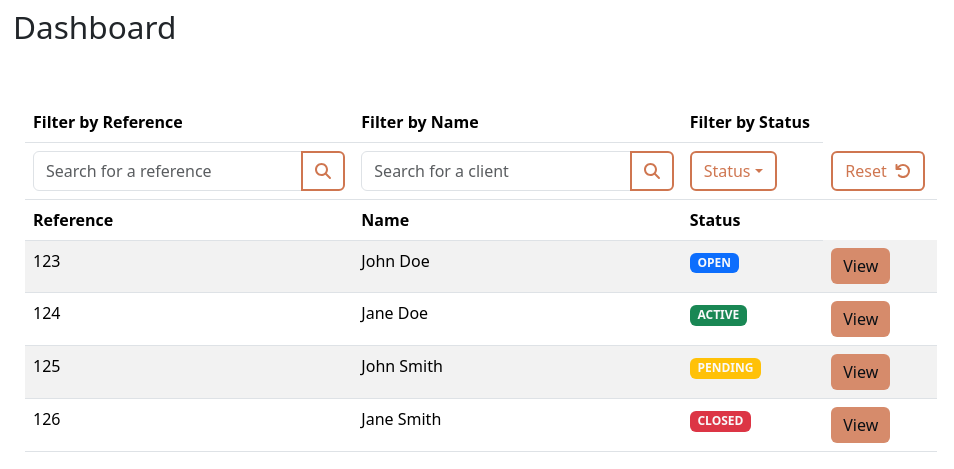
Test: Dashboard › when the cases have loaded › renders the cases table with the correct amount of rows after filtering by name
Type "Jane Doe" into the field with placeholder "Search for a client" at (496, 171), box x1=361 y1=151 x2=631 y2=191
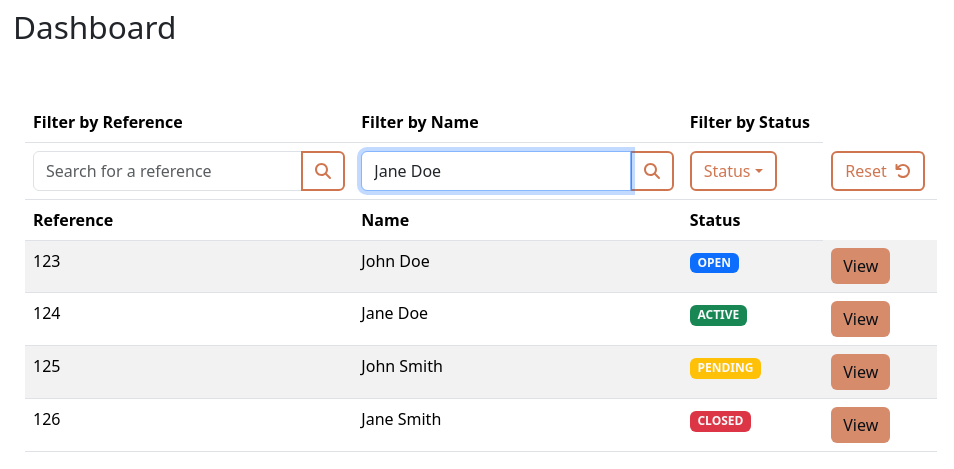
Click the 2nd button at (652, 171), box x1=630 y1=151 x2=674 y2=191
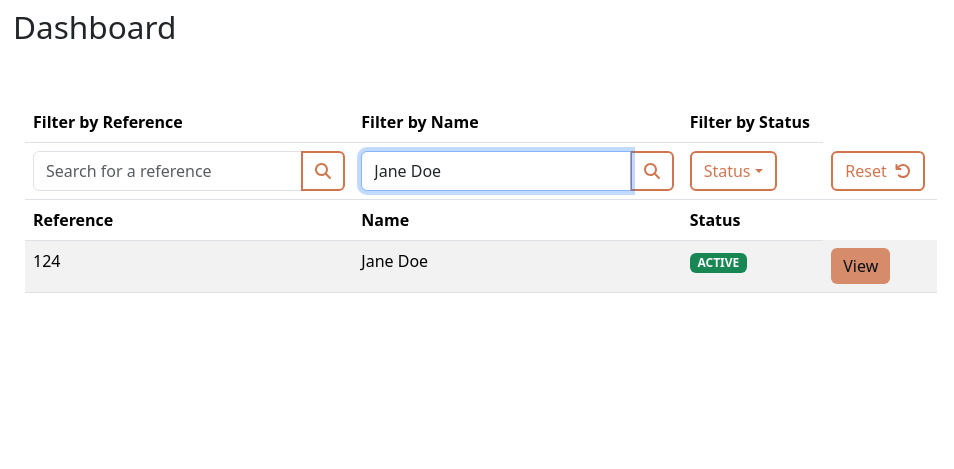
Expected: the number of rows with test id "caseRow" is 1, x1=25 y1=240 x2=937 y2=293
Expected: the row with test id "caseRow" shows "124", x1=33 y1=250 x2=60 y2=272
Expected: the row with test id "caseRow" shows "Jane Doe", x1=361 y1=250 x2=428 y2=272
